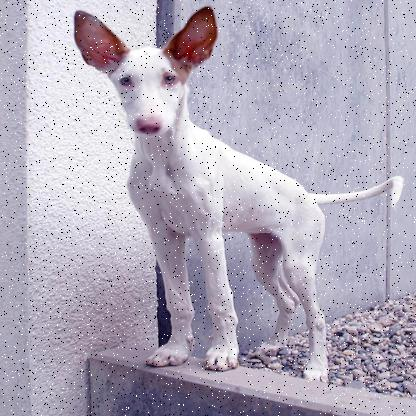dog: (63, 2, 407, 394)
